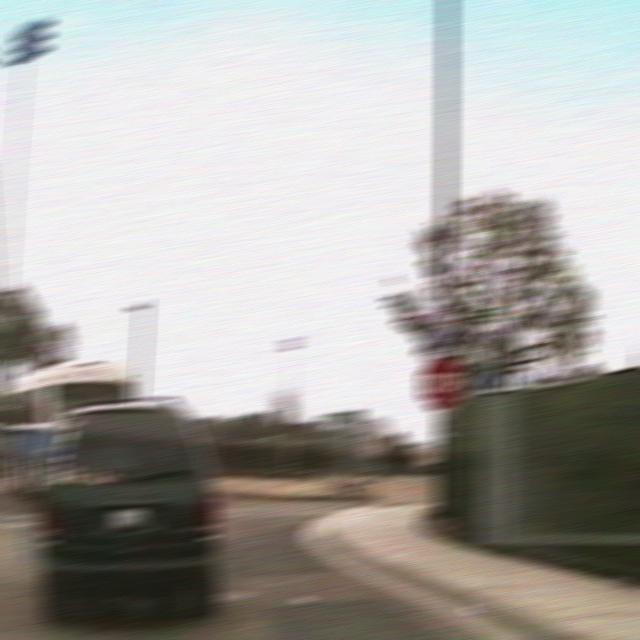stop_sign: (418, 354, 467, 410)
